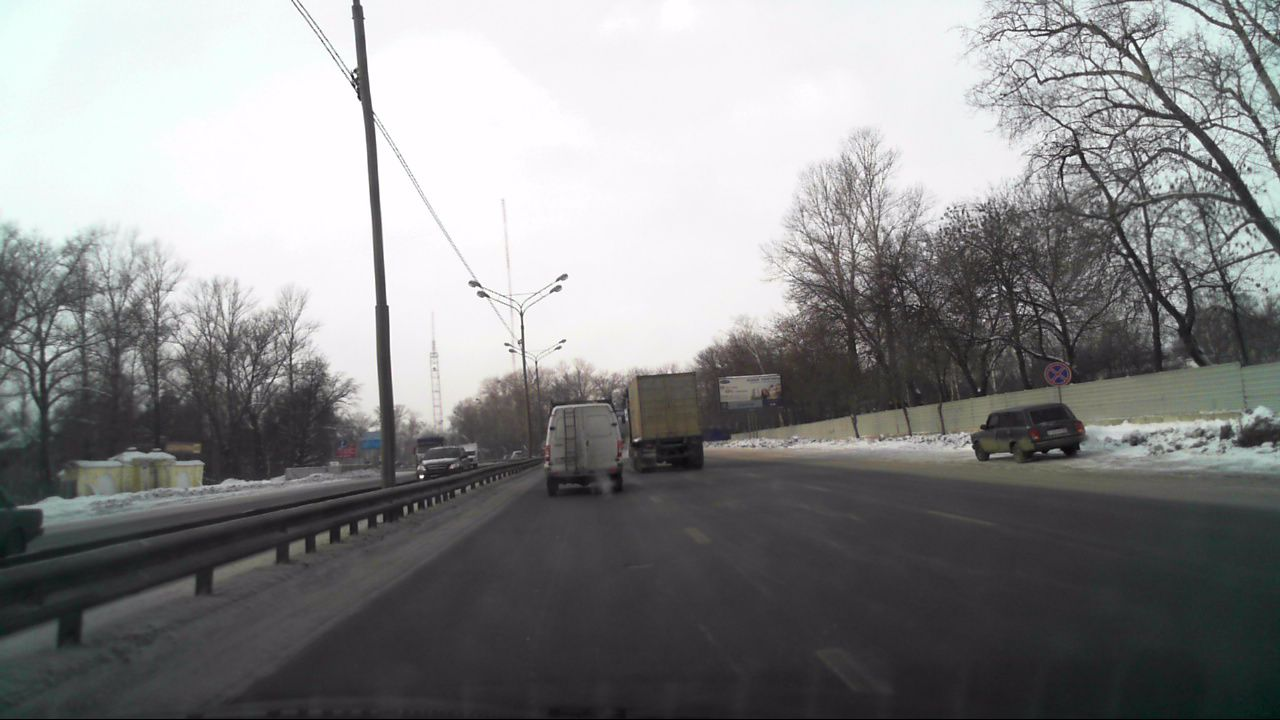No Parking: (1044, 361, 1070, 386)
